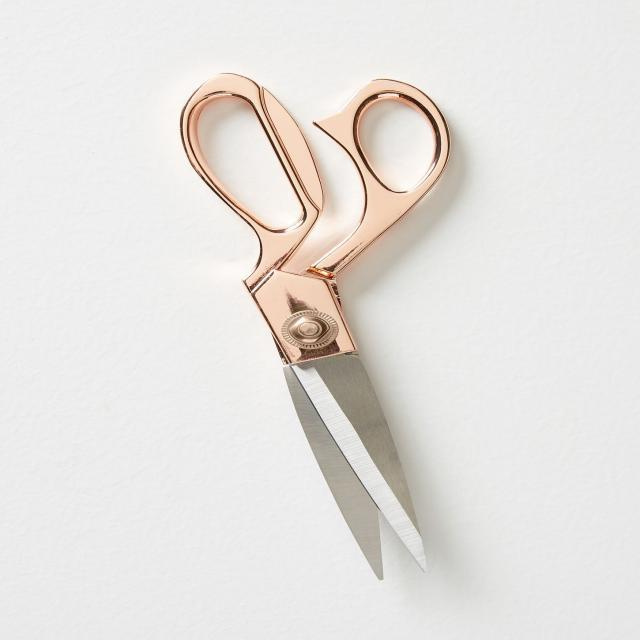scissor: (178, 70, 454, 584)
